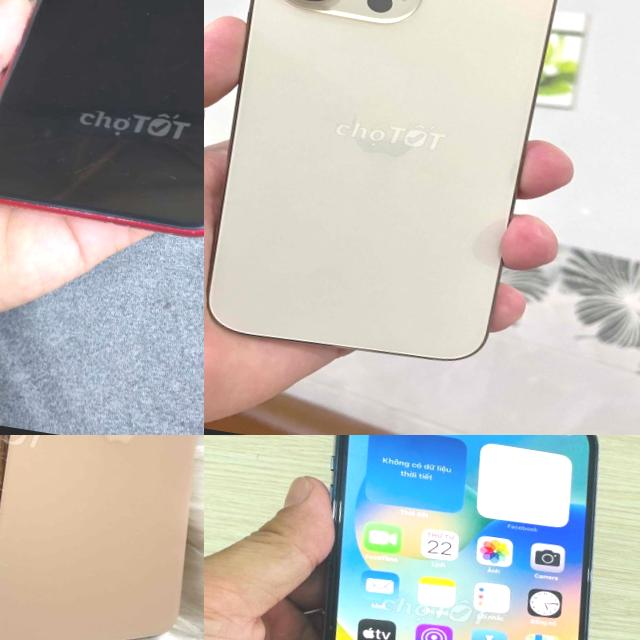scratch: (5, 195, 85, 218), (100, 207, 134, 231), (189, 189, 204, 237)
